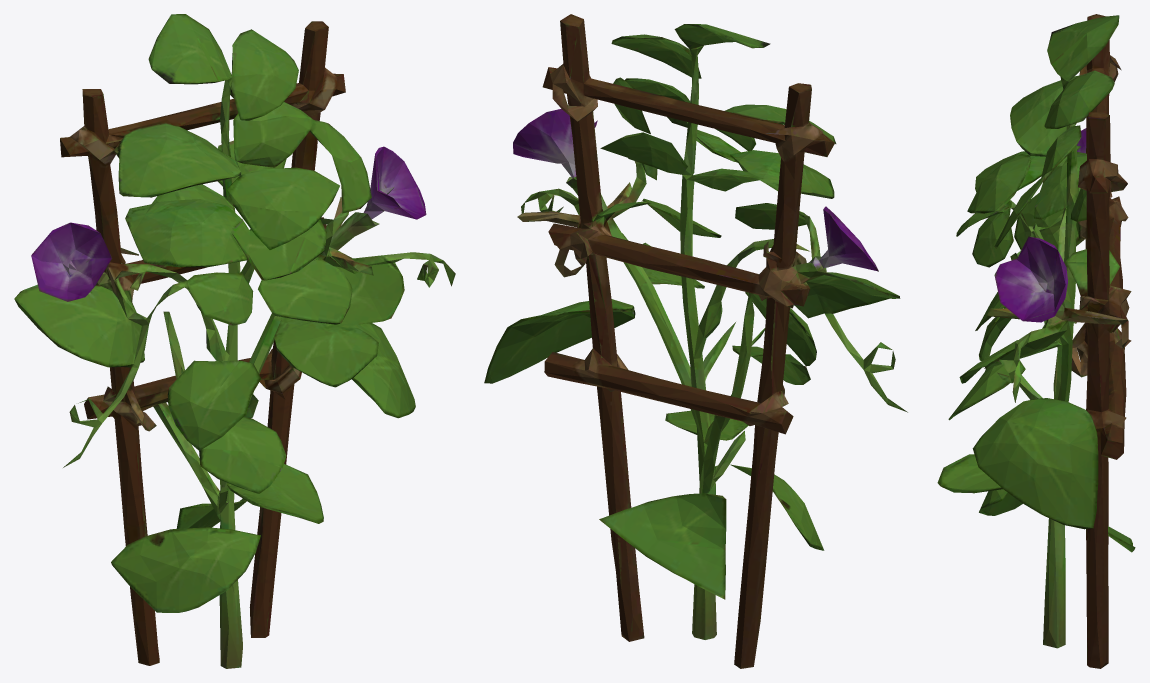
The model's file is P_Qiezi_02.obj.
3 renders of one model, left to right at view 1: azimuth 30°, elevation 25°; view 2: azimuth 150°, elevation 25°; view 3: azimuth 270°, elevation 25°, orthographic. The views are drawn at different scales.
Bounding box in the file's own units: 0.8889 × 1.34 × 0.3911.
1 material, 1 textured.
